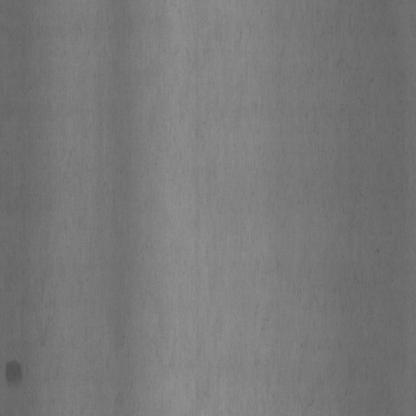oil_spot: (5, 359, 24, 394)
